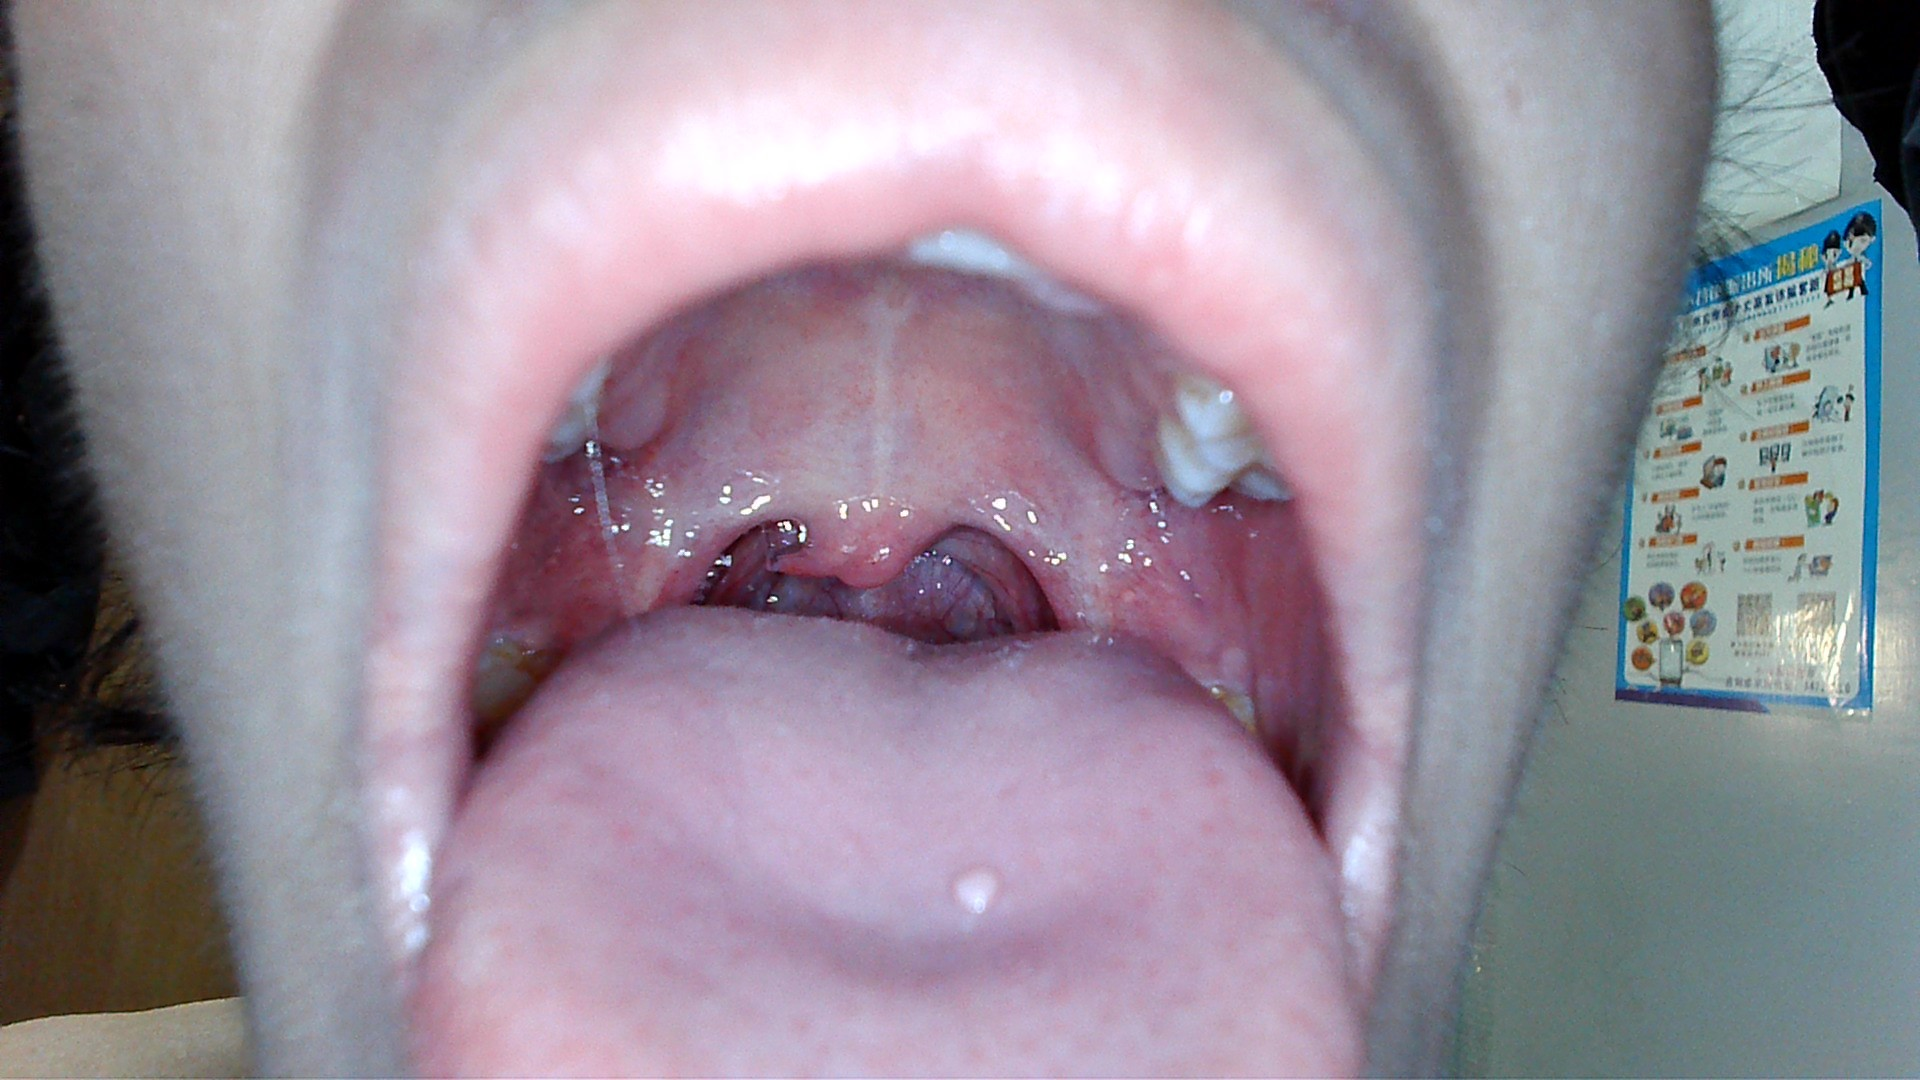throat: (994, 452, 1106, 632), (611, 456, 738, 600)
